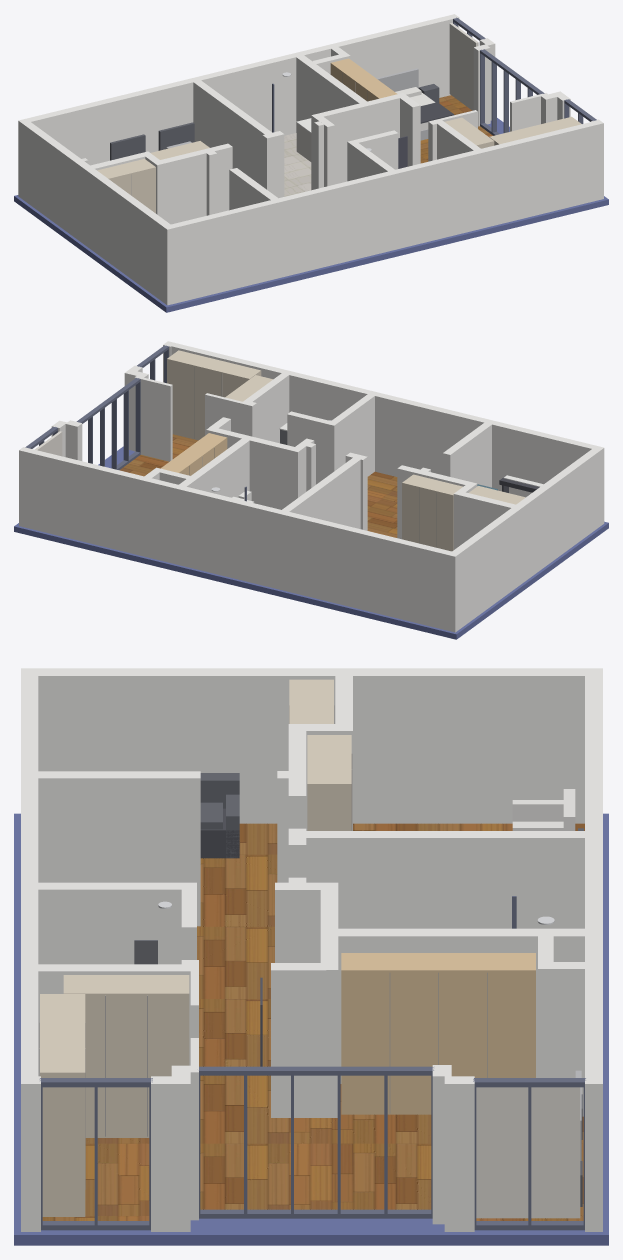
3 renders of one model, top to bottom at view 1: azimuth 30°, elevation 25°; view 2: azimuth 150°, elevation 25°; view 3: azimuth 270°, elevation 25°, orthographic. The views are drawn at different scales.
Parts seen in each view (by area): view 1: Mesh_11, Mesh_9, Mesh_10, Mesh_0, Mesh_18, Mesh_25, Mesh_28, Mesh_20, Mesh_117, Mesh_76, Mesh_113, Mesh_2 (+24 smaller); view 2: Mesh_9, Mesh_11, Mesh_10, Mesh_0, Mesh_133, Mesh_28, Mesh_73, Mesh_18, Mesh_37, Mesh_20, Mesh_35, Mesh_33 (+20 smaller); view 3: Mesh_10, Mesh_113, Mesh_18, Mesh_3, Mesh_35, Mesh_0, Mesh_130, Mesh_117, Mesh_33, Mesh_9, Mesh_11, Mesh_133 (+33 smaller).
Boxes of the visible parts, x1,y1,x2,y2 form: Mesh_11: (164, 121, 603, 305); Mesh_9: (18, 14, 459, 199); Mesh_10: (23, 122, 175, 304); Mesh_0: (14, 118, 608, 312); Mesh_18: (193, 80, 276, 196); Mesh_25: (153, 143, 232, 224); Mesh_28: (311, 93, 407, 190); Mesh_20: (296, 55, 368, 132); Mesh_117: (449, 23, 478, 110); Mesh_76: (97, 159, 155, 213); Mesh_113: (330, 58, 397, 101); Mesh_2: (284, 133, 311, 196); Mesh_9: (19, 447, 459, 632); Mesh_11: (164, 341, 603, 526); Mesh_10: (452, 448, 604, 628); Mesh_0: (14, 446, 608, 639); Mesh_133: (167, 350, 261, 440); Mesh_28: (206, 427, 302, 509); Mesh_73: (402, 474, 462, 551); Mesh_18: (282, 455, 364, 528); Mesh_37: (142, 378, 172, 461); Mesh_20: (179, 437, 251, 497); Mesh_35: (443, 422, 491, 487); Mesh_33: (331, 394, 374, 476); Mesh_10: (21, 668, 584, 823); Mesh_113: (341, 953, 535, 1114); Mesh_18: (288, 831, 584, 928); Mesh_3: (200, 1084, 583, 1220); Mesh_35: (38, 771, 200, 926); Mesh_0: (14, 813, 608, 1245); Mesh_130: (63, 975, 189, 1137); Mesh_117: (476, 1087, 580, 1218); Mesh_33: (38, 882, 181, 964); Mesh_9: (585, 668, 602, 1231); Mesh_11: (21, 668, 38, 1231); Mesh_133: (40, 994, 85, 1216).
Bounding box in the file's own units: 12.83 × 2.25 × 7.66.
Materials: 30 (8 with a texture image).
